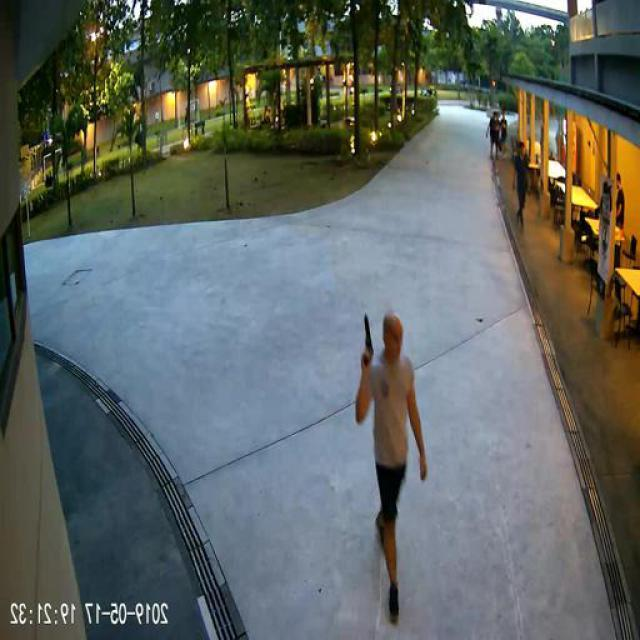Gun: (362, 310, 376, 365)
